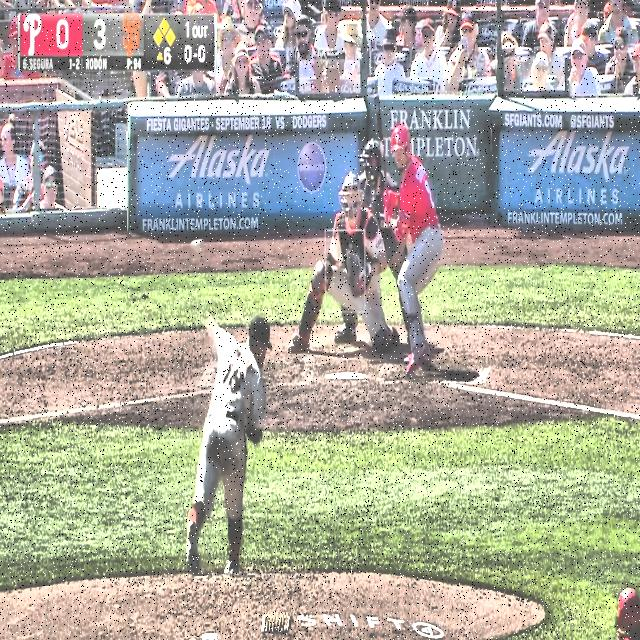baseball: (191, 238, 204, 255)
